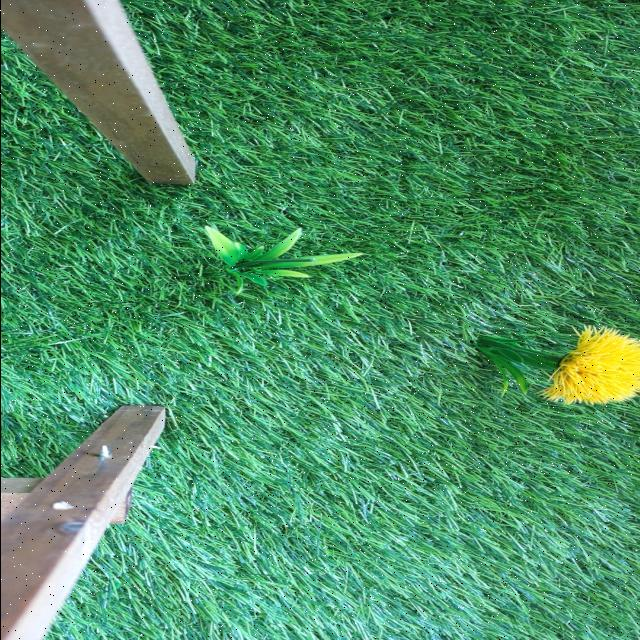base: (210, 230, 360, 290), (471, 332, 541, 398)
flower: (542, 330, 640, 408)
